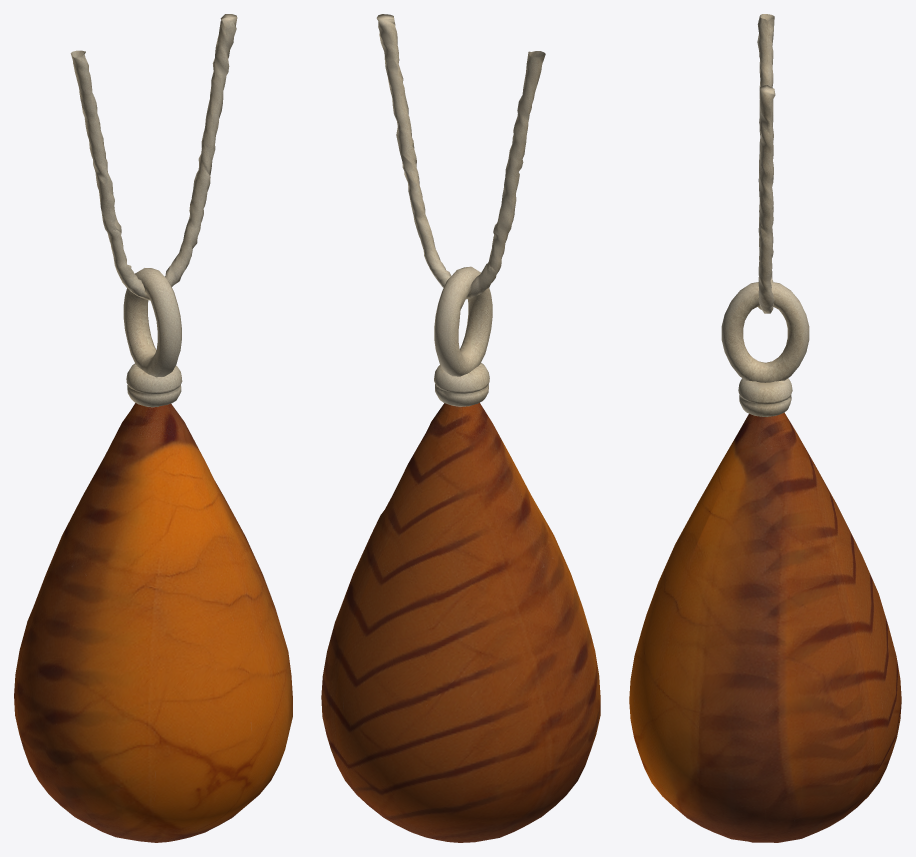
File: amber-charm_refine.glb
3 views of the same model, side by side, from view 1: azimuth 30°, elevation 25°; view 2: azimuth 150°, elevation 25°; view 3: azimuth 270°, elevation 25° (orthographic). The views are drawn at different scales.
Size of the model in its own units: 0.3022 by 0.9507 by 0.3013.
1 material, 1 textured.
